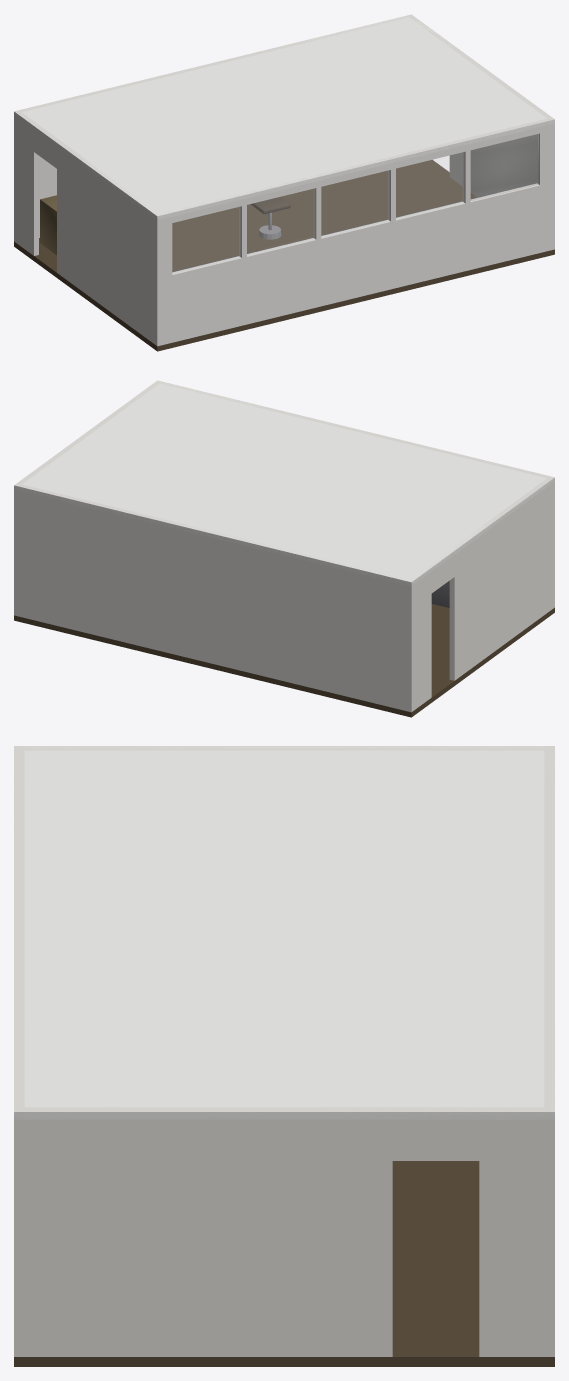
Rendered from Bridge_v1.0_empty.glb.
3 renders of one model, top to bottom at view 1: azimuth 30°, elevation 25°; view 2: azimuth 150°, elevation 25°; view 3: azimuth 270°, elevation 25°, orthographic. The views are drawn at different scales.
Parts seen in each view (by area): view 1: cabin_ceiling, wall_front, wall_left, cabin_floor, wall_right, window_glass_1, window_glass_3, window_glass_2, window_glass_5, window_glass_4, wall_back, chart_table (+1 smaller); view 2: cabin_ceiling, wall_back, wall_left, cabin_floor, wall_front, wall_right; view 3: cabin_ceiling, wall_right, cabin_floor, wall_back, wall_front, wall_left.
Part boxes in pixels (box(x1,y1,x2,y2)): cabin_ceiling: box(22, 15, 554, 219); wall_front: box(154, 117, 554, 346); wall_left: box(14, 110, 162, 345); cabin_floor: box(14, 159, 554, 351); wall_right: box(407, 14, 554, 197); window_glass_1: box(172, 207, 240, 273); window_glass_3: box(321, 170, 389, 236); window_glass_2: box(247, 188, 314, 255); window_glass_5: box(471, 134, 538, 200); window_glass_4: box(396, 152, 463, 218); wall_back: box(19, 14, 413, 237); chart_table: box(40, 195, 56, 255); cabin_ceiling: box(14, 380, 554, 585); wall_back: box(14, 483, 414, 712); wall_left: box(407, 476, 554, 711); cabin_floor: box(14, 604, 554, 717); wall_front: box(155, 380, 549, 477); wall_right: box(14, 380, 161, 615); cabin_ceiling: box(14, 746, 554, 1119); wall_right: box(14, 1107, 554, 1356); cabin_floor: box(14, 1161, 554, 1366); wall_back: box(544, 746, 554, 1356); wall_front: box(14, 746, 24, 1356); wall_left: box(14, 746, 553, 750).
Size of the model in its own units: 8 by 2.6 by 5.
